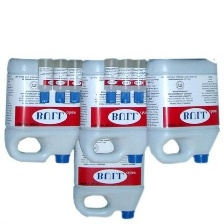cleaning_solution: (2, 54, 83, 167), (144, 56, 223, 166), (77, 56, 154, 167), (70, 122, 147, 221), (115, 57, 136, 104), (130, 56, 149, 105), (100, 57, 119, 106), (35, 57, 54, 104), (51, 57, 68, 105), (66, 58, 83, 104)
